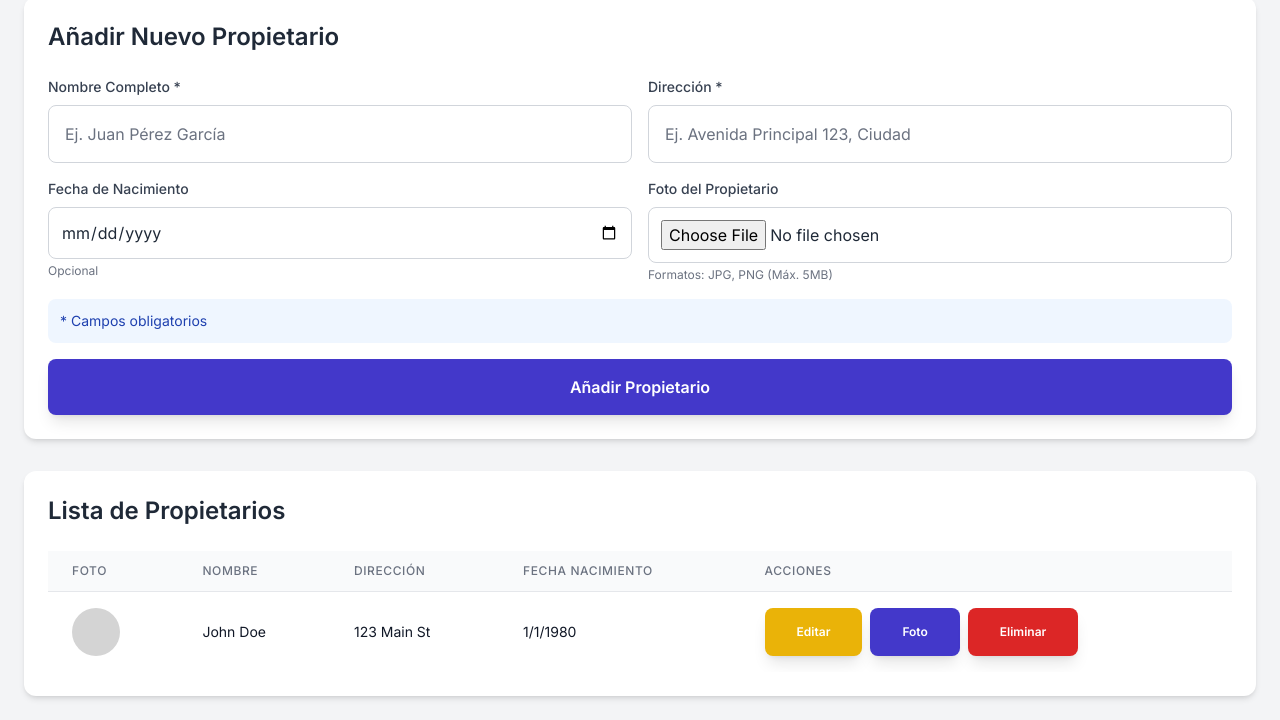
Scenario: OwnerManagement Component › should display edit modal when edit button is clicked
The width and height of the screenshot is (1280, 720).
(page scrolled)
Expected: the text "John Doe" is shown, [178,592,330,672]
Buscar y hacer clic en el botón de editar
Click the button "Editar".
click(813, 632)  # box [764,608,862,656]
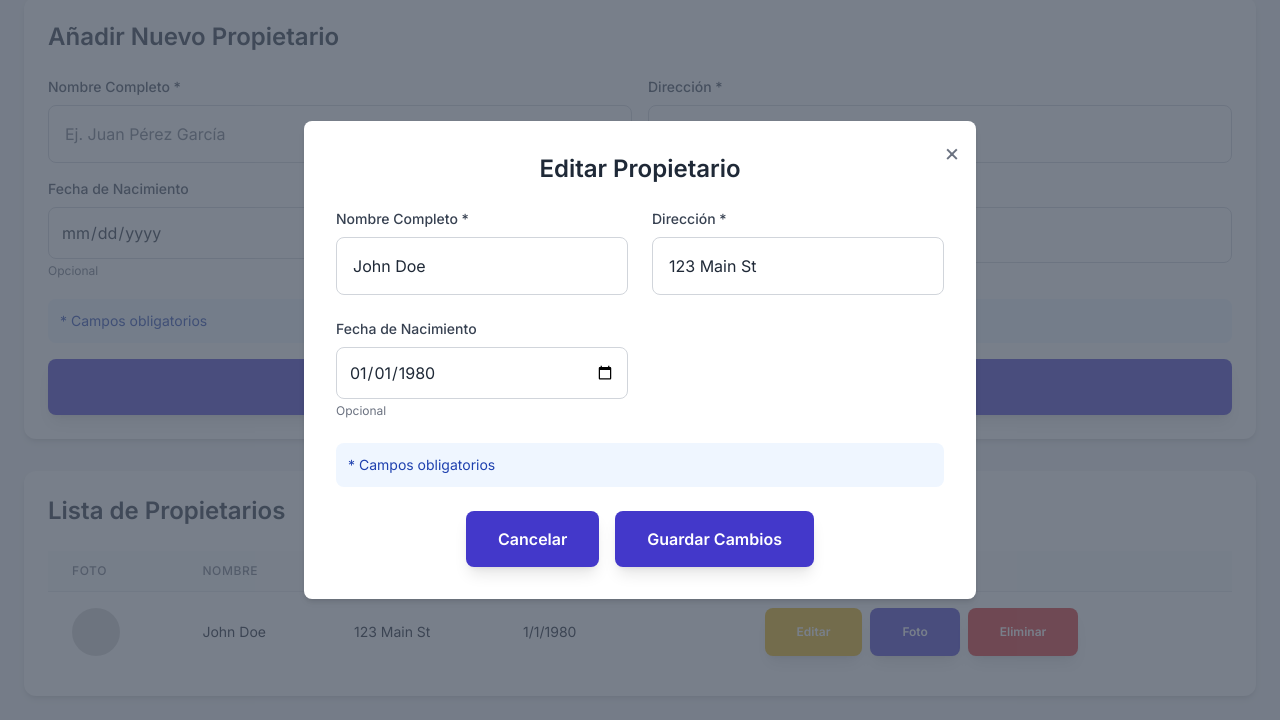
Expected: the heading "Editar Propietario" is shown, [539,154,741,183]
